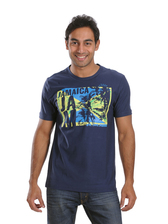clothoes: (32, 63, 135, 196)
